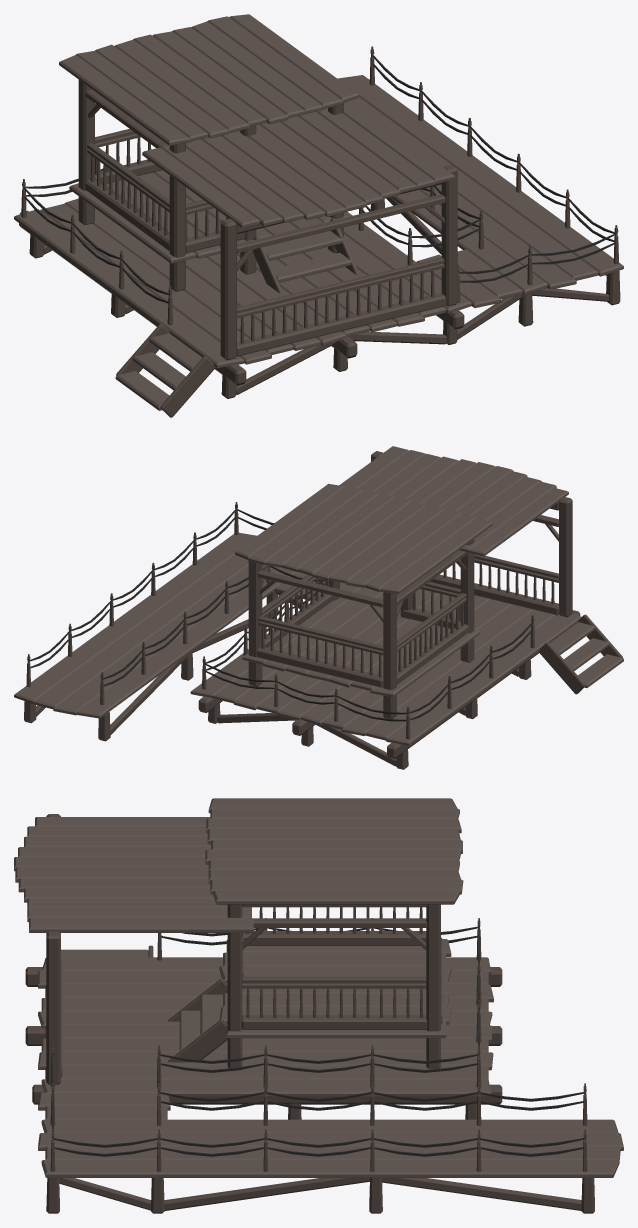
File: farmstractures_11.glb
3 renders of one model, top to bottom at view 1: azimuth 30°, elevation 25°; view 2: azimuth 150°, elevation 25°; view 3: azimuth 270°, elevation 25°, orthographic. The views are drawn at different scales.
Parts seen in each view (by area): view 1: farmstractures_11; view 2: farmstractures_11; view 3: farmstractures_11.
Part boxes in pixels (x1,y1,x2,y2): farmstractures_11: [14, 14, 623, 417]; farmstractures_11: [14, 446, 623, 769]; farmstractures_11: [14, 798, 623, 1213].
Size of the model in its own units: 8.59 by 3.67 by 9.04.
1 material, 1 textured.
